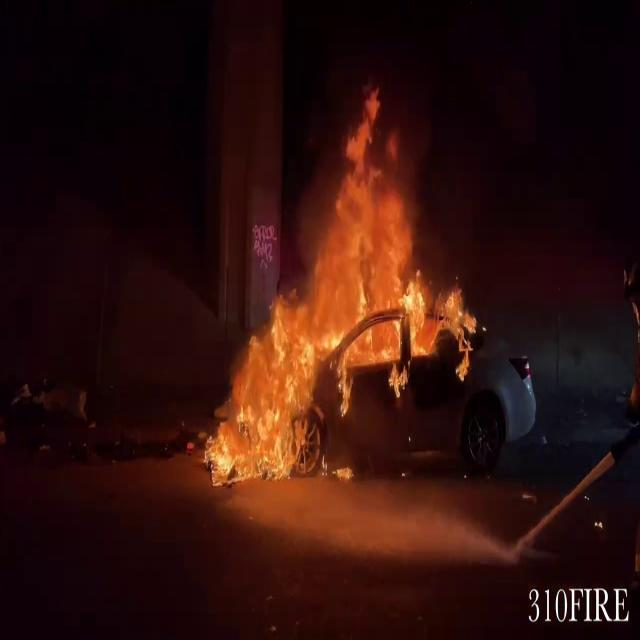Fire: (201, 79, 491, 482)
